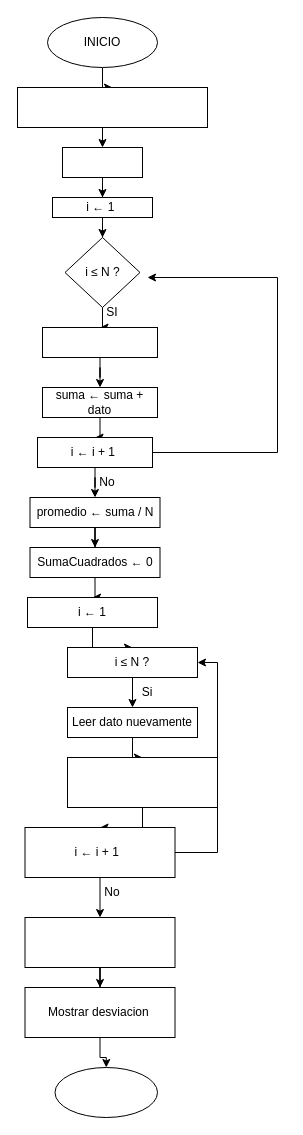
Some shapes in this 303 by 1135 pixel diagram are drawn without their labels. Here are the shapes that lost their labels. From the top down, the centre of each, then its label:
the point at 112,107: Leer N "Cantidad de datos"
the point at 102,162: suma ← 0
the point at 100,342: Leer dato
the point at 142,782: SumaCuadrados ← SumaCuadrados + (dato - promedio)^2
the point at 99,942: desviacion ← √(sumaCuadrados/N)
the point at 106,1092: FIN
